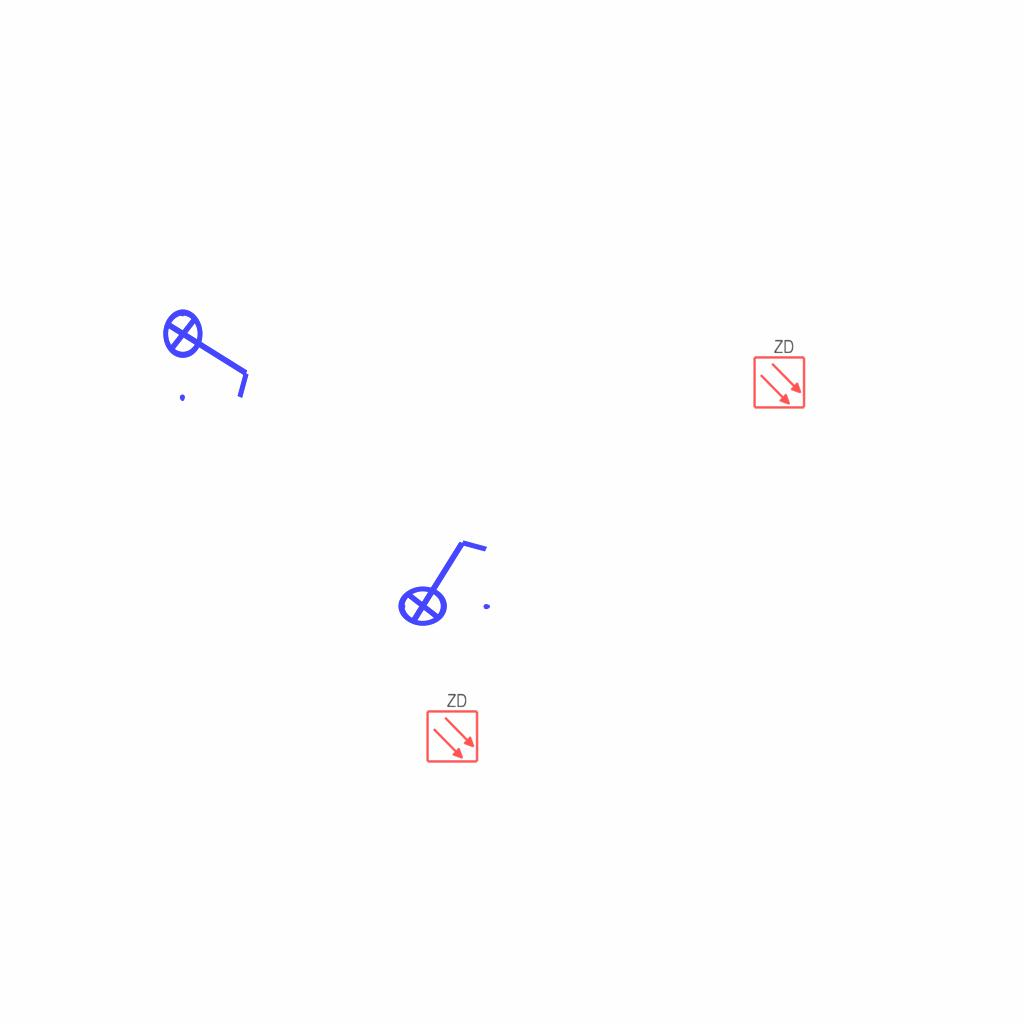Ausschalter_beleuchtet: (384, 532, 496, 628), (161, 295, 257, 407)
ZD_Melder_in_Zwischendecke_mit_Revisionsoeffnung_mind_40_x_40_cm: (750, 336, 807, 410), (423, 690, 480, 764)
